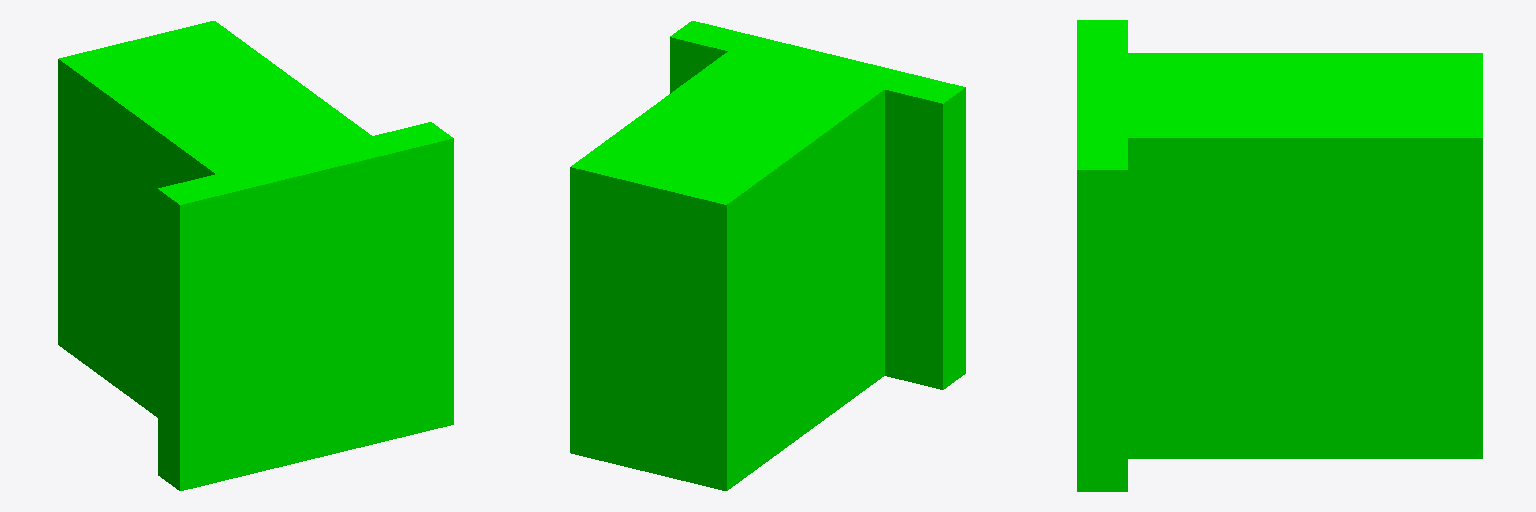
URDF robot description (robot):
<robot name = "robot">
    <link name="root">
        <inertial>
            <origin xyz="0.0 0.0 1.5" rpy="0 0 0"/>
            <mass value="1" />
            <inertia ixx="100" ixy="0" ixz="0" iyy="100" iyz="0" izz="100" />
        </inertial>
        <visual>
            <origin xyz="0.0 0.0 1.5" rpy="0 0 0"/>
            <geometry>
                <box size="0 0 0.0001" />
            </geometry>
            <material name="Green">
                <color rgba="0 1.0 0.0 1.0"/>
            </material>
        </visual>
        <collision>
            <origin xyz="0.0 0.0 1.5" rpy="0 0 0"/>
            <geometry>
                <box size="0 0 0.0001" />
            </geometry>
        </collision>
    </link>
    <joint name="root_000" type="revolute">
       <parent link="root"/>
       <child  link="000"/>
       <origin rpy="0 0 0" xyz="0.0 0.0 1.5" />
     <axis xyz="1 0 0"/>
       <limit effort="0.0" lower="-3.14159" upper="3.14159" velocity="0.0"/>
    </joint>
    <link name="000">
        <inertial>
            <origin xyz="0.0 0.05 0.0" rpy="0 0 0"/>
            <mass value="1" />
            <inertia ixx="100" ixy="0" ixz="0" iyy="100" iyz="0" izz="100" />
        </inertial>
        <visual>
            <origin xyz="0.0 0.05 0.0" rpy="0 0 0"/>
            <geometry>
                <box size="0.7 0.1 0.7" />
            </geometry>
            <material name="Green">
                <color rgba="0 1.0 0.0 1.0"/>
            </material>
        </visual>
        <collision>
            <origin xyz="0.0 0.05 0.0" rpy="0 0 0"/>
            <geometry>
                <box size="0.7 0.1 0.7" />
            </geometry>
        </collision>
    </link>
    <joint name="000_000-100" type="revolute">
       <parent link="000"/>
       <child  link="000-100"/>
       <origin rpy="0 0 0" xyz="0.0 0.1 -0.0" />
     <axis xyz="0 1 0"/>
       <limit effort="0.0" lower="-3.14159" upper="3.14159" velocity="0.0"/>
    </joint>
    <link name="000-100">
        <inertial>
            <origin xyz="0.0 0.35 -0.0" rpy="0 0 0"/>
            <mass value="1" />
            <inertia ixx="100" ixy="0" ixz="0" iyy="100" iyz="0" izz="100" />
        </inertial>
        <visual>
            <origin xyz="0.0 0.35 -0.0" rpy="0 0 0"/>
            <geometry>
                <box size="0.4 0.7 0.7" />
            </geometry>
            <material name="Green">
                <color rgba="0 1.0 0.0 1.0"/>
            </material>
        </visual>
        <collision>
            <origin xyz="0.0 0.35 -0.0" rpy="0 0 0"/>
            <geometry>
                <box size="0.4 0.7 0.7" />
            </geometry>
        </collision>
    </link>
</robot>

--- What the picture shows (computed from the rendered views, not written in the file) ---
3 views of the same robot in one strip: view 1: azimuth 30°, elevation 25°; view 2: azimuth 150°, elevation 25°; view 3: azimuth 270°, elevation 25° (orthographic).
Robot: robot — 3 links, 2 joints (2 revolute); root link root; default pose: every joint at zero.
Links seen in each view (by area): view 1: 000, 000-100; view 2: 000-100, 000; view 3: 000-100, 000.
Link boxes in pixels (left/top/right/bottom): 000: left=158, top=122, right=453, bottom=490; 000-100: left=58, top=21, right=371, bottom=417; 000-100: left=570, top=51, right=884, bottom=490; 000: left=670, top=21, right=965, bottom=389; 000-100: left=1128, top=53, right=1482, bottom=458; 000: left=1077, top=20, right=1127, bottom=491.
Bounding box of the posed robot: 0.7 × 0.8 × 0.7 m (x, y, z).
Geometry: primitives only (box / cylinder / sphere), no mesh files.
